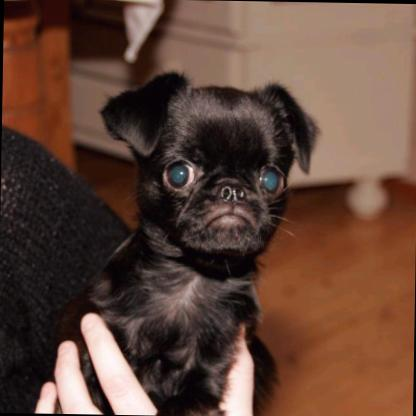Brabancon_griffon: (0, 62, 320, 414)
